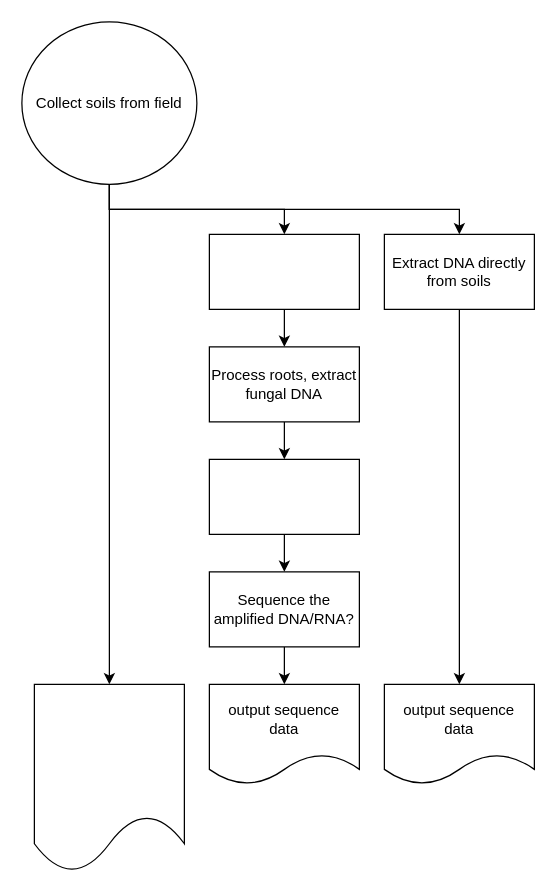
This 556x894 diagram has some shape labels left out. The shapes that lost their labels are listed below. From the top down, each one's box as (x1, y1, x2, y2) in pixels, then its label:
(208, 233, 359, 309): inoculate greenhouse plants
(208, 458, 359, 534): amplify ITS region between 18S-28S rRNA using PCR
(33, 683, 184, 872): Field data: -date -sample name -location coordinates -other observations
